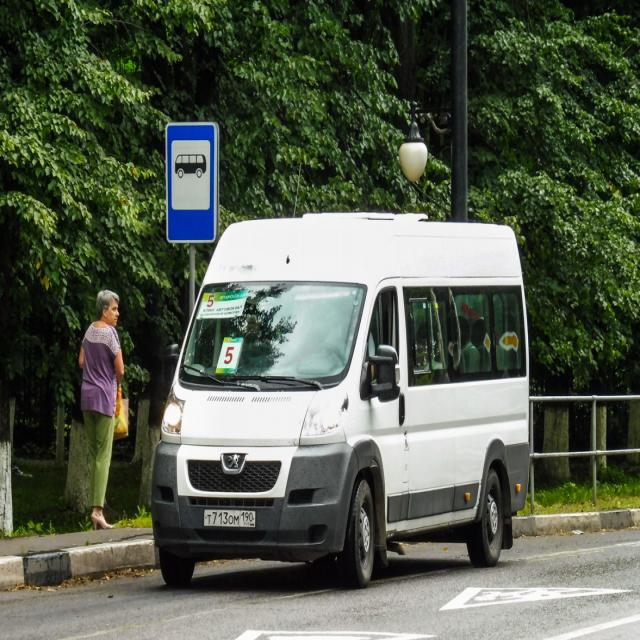number-of-bus: (224, 346, 237, 367), (207, 293, 216, 310)
